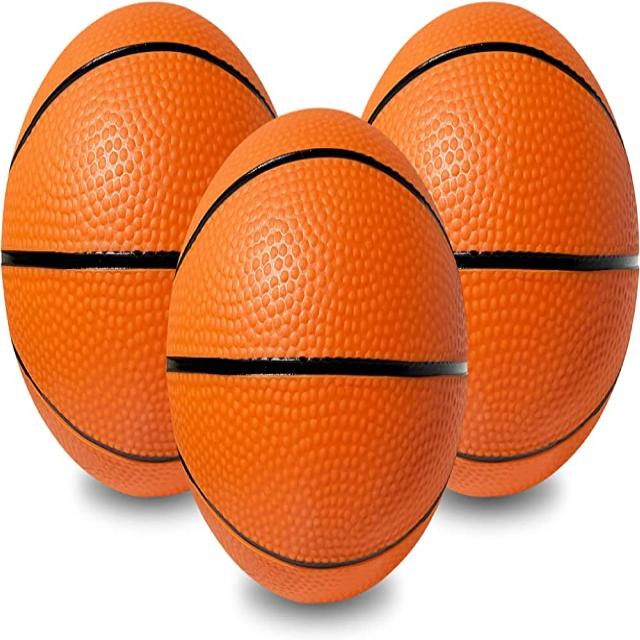non_orange: (169, 122, 450, 596), (6, 37, 272, 506), (365, 55, 626, 487)
